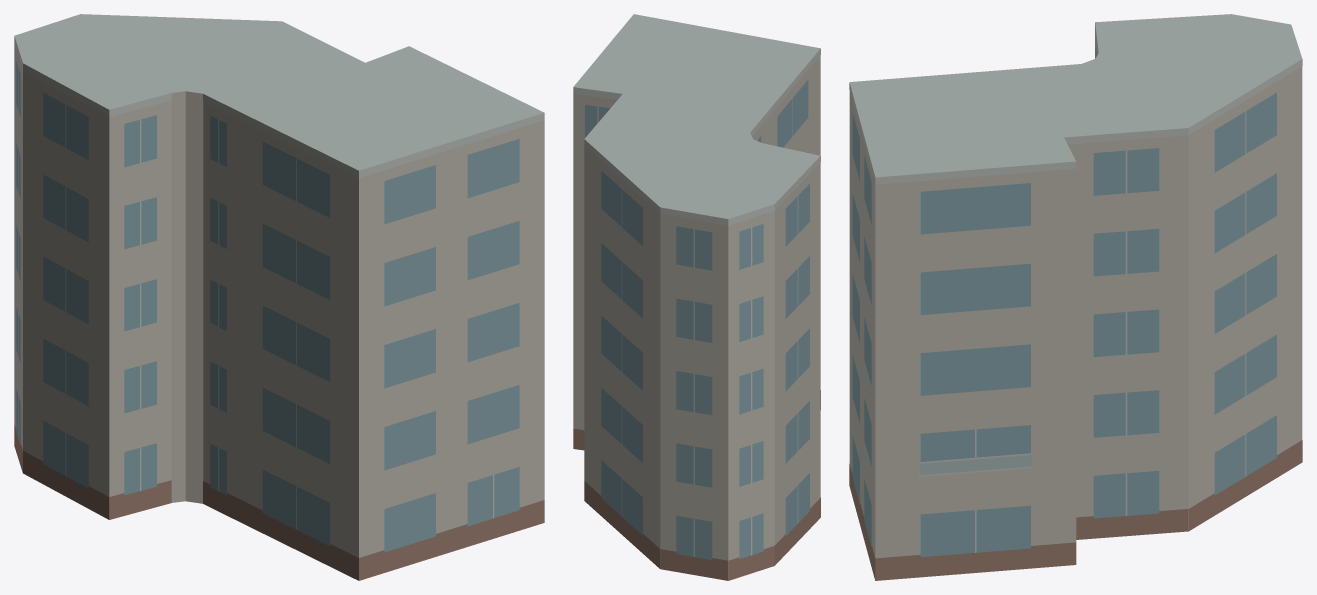
Rendered from survey-upis-32611988.glb.
3 renders of one model, left to right at view 1: azimuth 30°, elevation 25°; view 2: azimuth 150°, elevation 25°; view 3: azimuth 270°, elevation 25°, orthographic. The views are drawn at different scales.
Visible parts, largest first — view 1: survey-upis-32611988.tmp; view 2: survey-upis-32611988.tmp; view 3: survey-upis-32611988.tmp.
Part boxes in pixels (x1,y1,x2,y2): survey-upis-32611988.tmp: (14, 14, 544, 580); survey-upis-32611988.tmp: (573, 14, 820, 580); survey-upis-32611988.tmp: (849, 14, 1302, 580).
Bounding box in the file's own units: 11.87 × 13.65 × 13.9.
